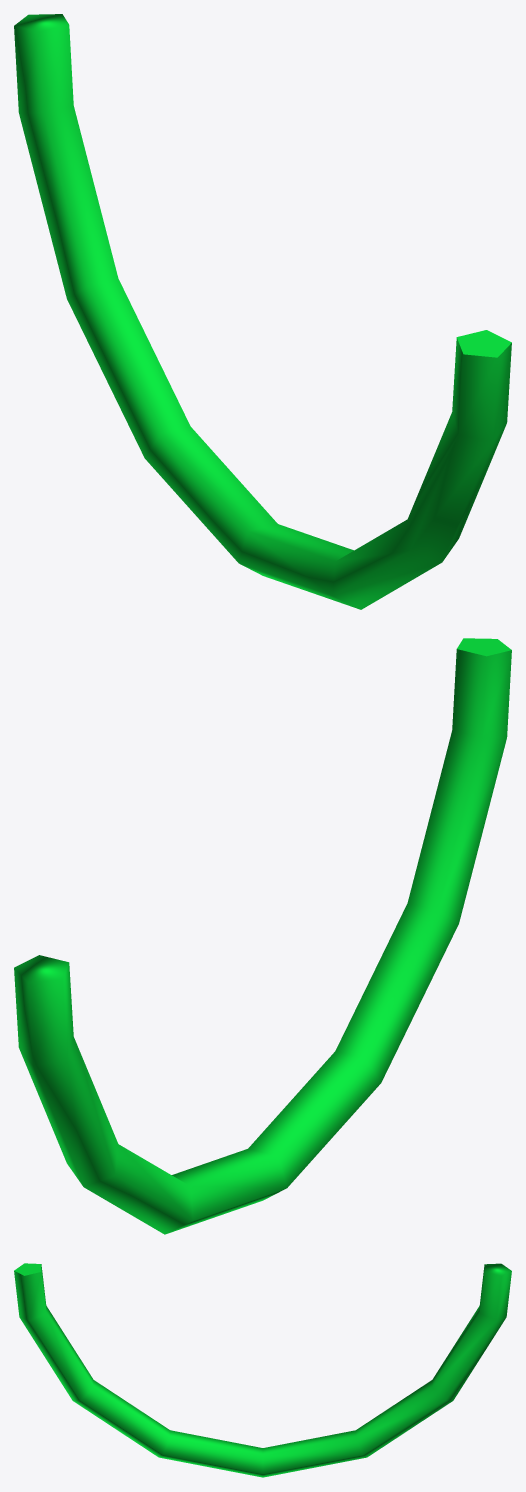
Rendered from Pipe_Ring_270.fbx.
The picture shows the model from 3 angles, top to bottom: view 1: azimuth 30°, elevation 25°; view 2: azimuth 150°, elevation 25°; view 3: azimuth 270°, elevation 25°; orthographic projection. The views are drawn at different scales.
Visible parts, largest first — view 1: Pipe_Ring_270; view 2: Pipe_Ring_270; view 3: Pipe_Ring_270.
Part boxes in pixels (x1,y1,x2,y2): Pipe_Ring_270: (14,14,511,609); Pipe_Ring_270: (14,638,511,1234); Pipe_Ring_270: (14,1263,511,1477).
Bounding box in the file's own units: 0.2254 × 1.75 × 3.77.
